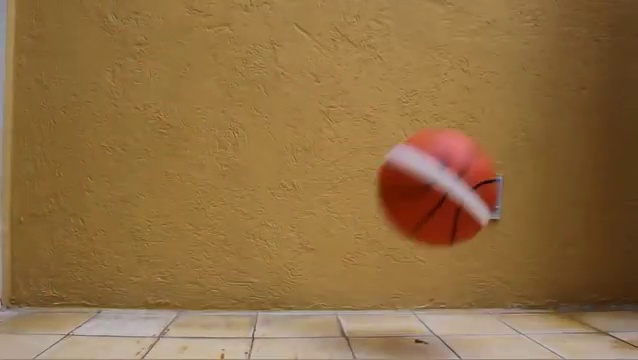ball: (378, 126, 499, 246)
